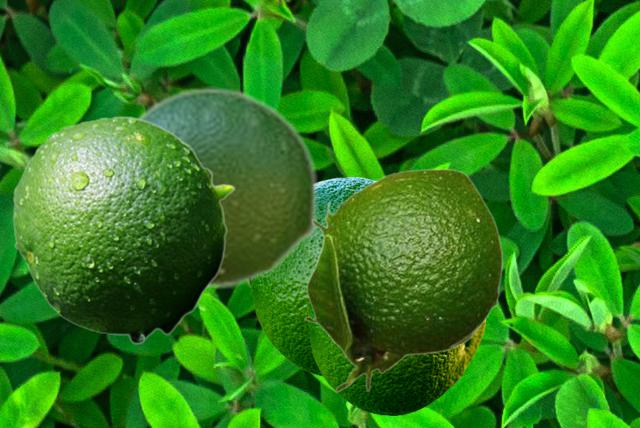dalandan: (12, 115, 234, 344), (303, 168, 502, 392), (135, 86, 318, 289), (251, 177, 374, 376), (308, 303, 484, 414)
